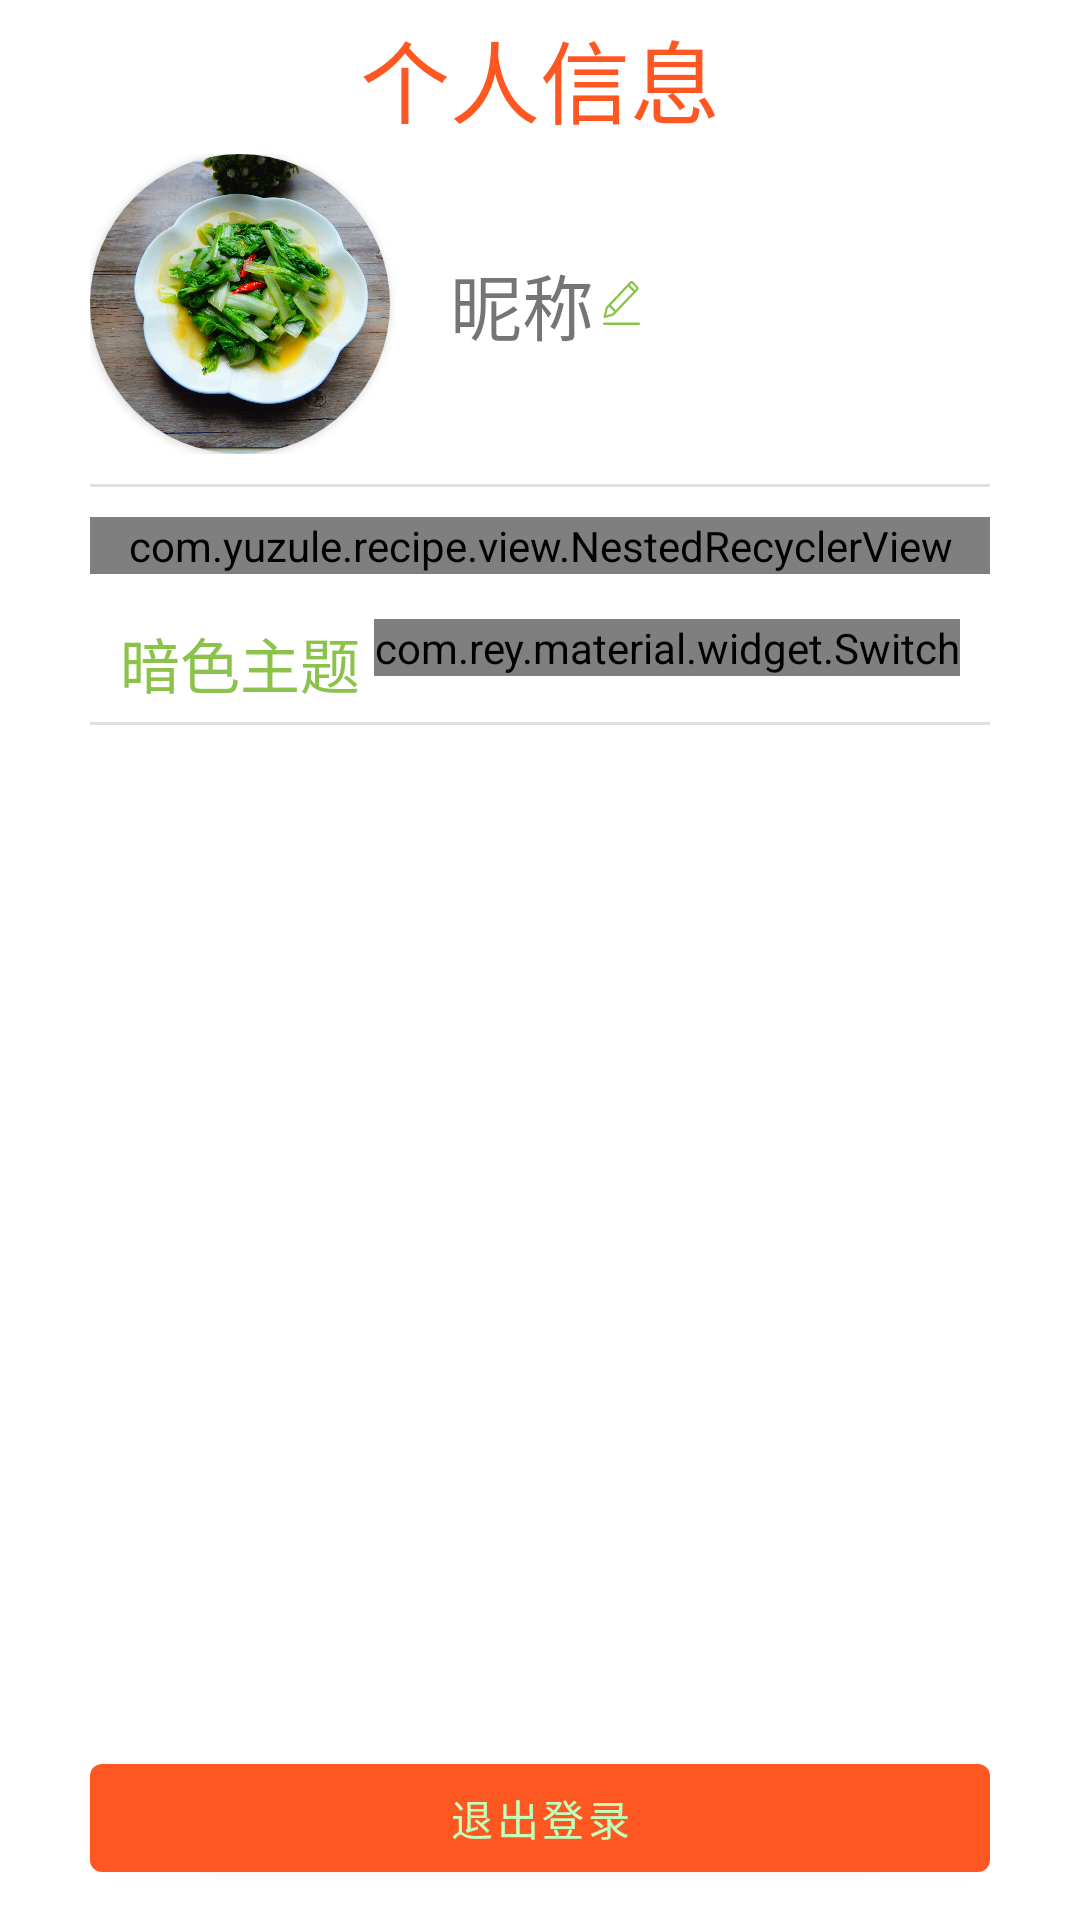

Point at icon controls on the screen. Image size 1080px×1920px, points as (x,y).
dish: (240,304)
edit: (621,303)
